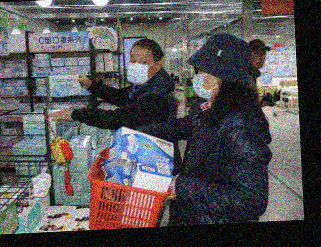with_mask: (125, 52, 156, 86), (192, 66, 216, 102)
without_mask: (250, 49, 267, 70)
